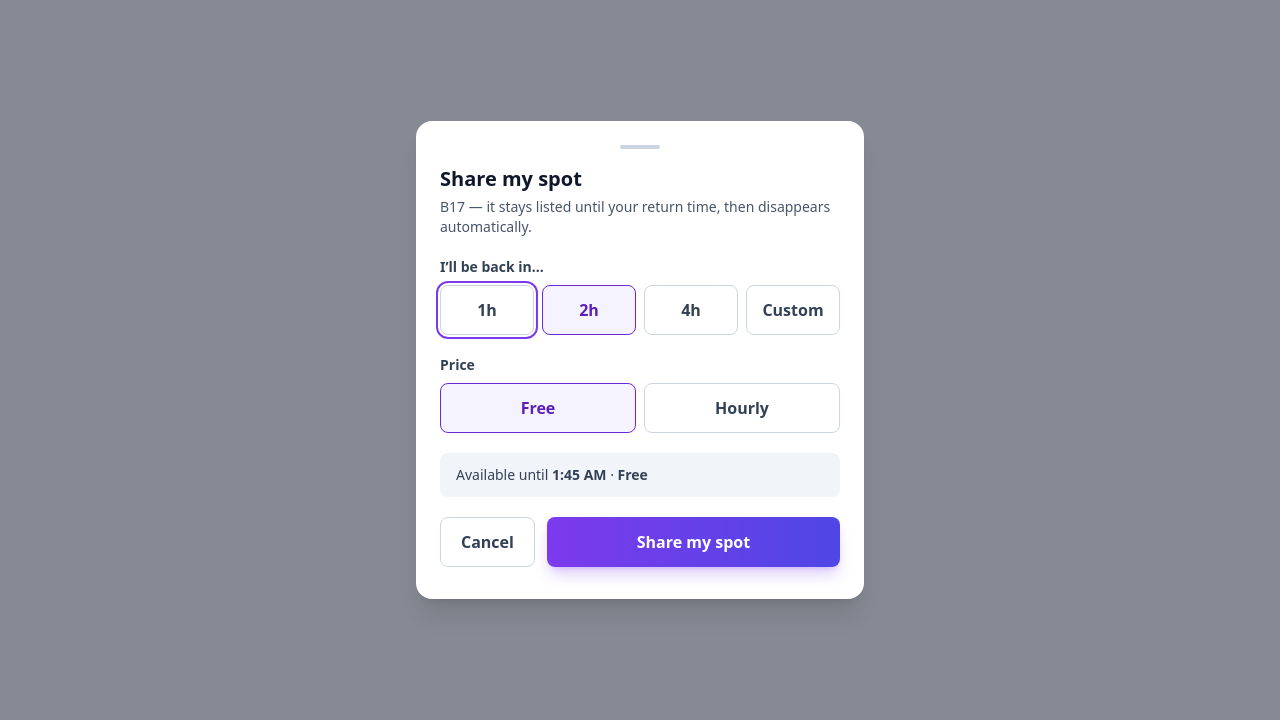
Scenario: ShareSheet › switching to hourly reveals the price input
Click the button "Hourly": click(742, 408) x1=644 y1=383 x2=840 y2=433
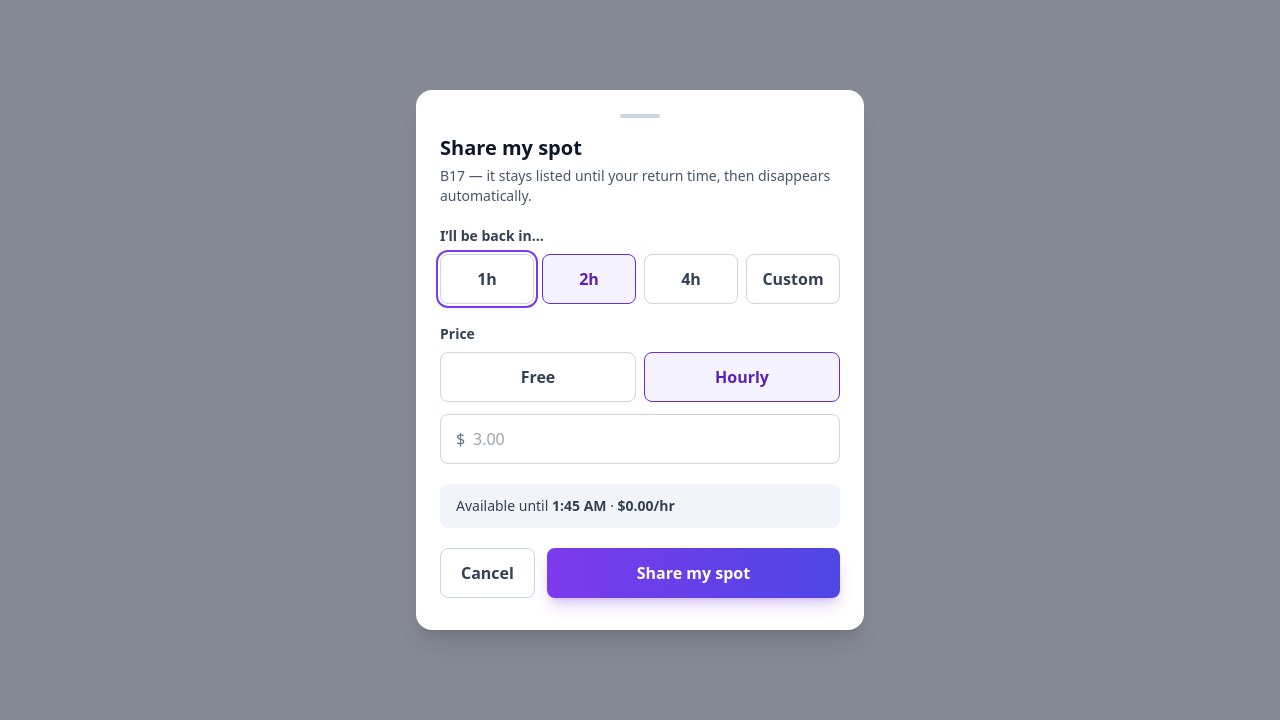
Expected: the number field named "Hourly price in dollars" is shown, x1=440 y1=414 x2=840 y2=464
